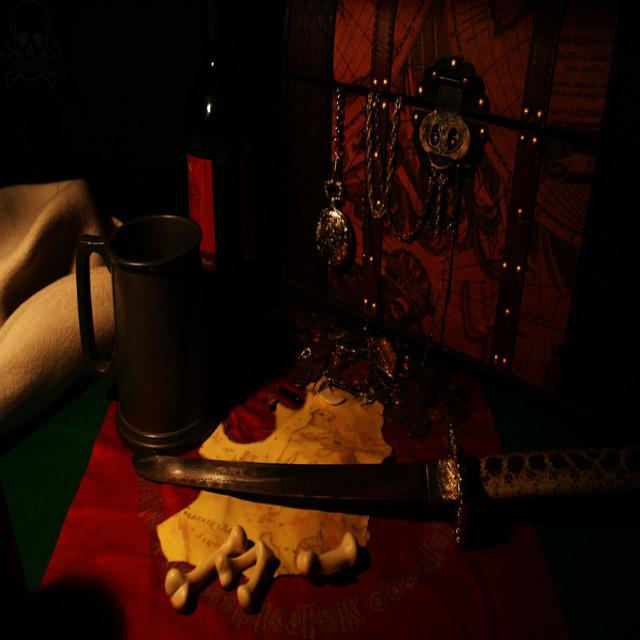Cup: (64, 190, 210, 486)
Table: (43, 335, 640, 640)
